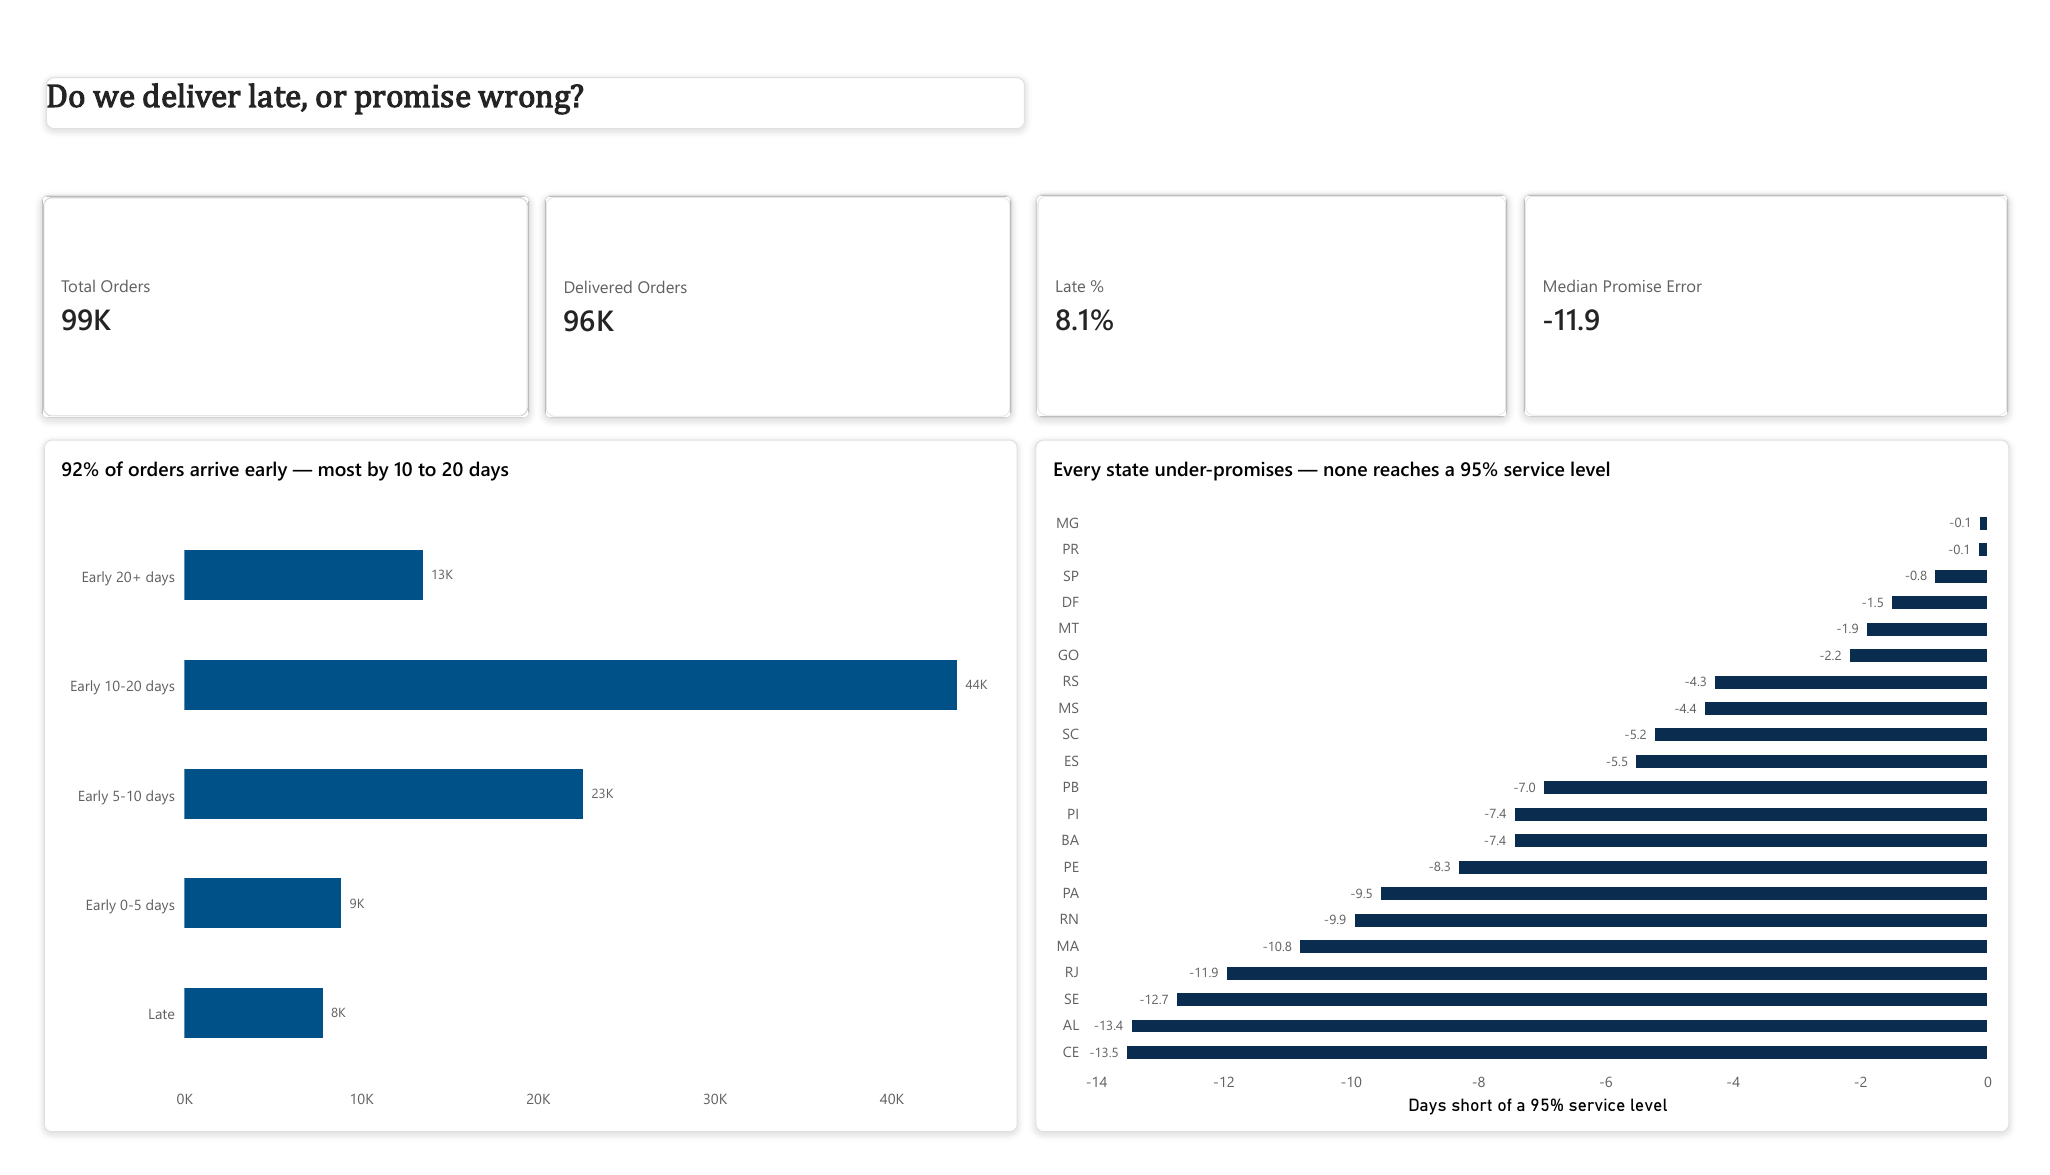

This screenshot's page, from the dashboard's own definition file:
{"tool":"powerbi","page":{"name":"The promise","canvas":[1920,1080],"ordinal":0},"visuals":[{"type":"cardVisual","fields":{"Data":["order_model.Total Orders"]},"box":[15,162.5,470,215],"z":0},{"type":"cardVisual","fields":{"Data":["order_model.Delivered Orders"]},"box":[497.5,162.5,450,215],"z":1000},{"type":"cardVisual","fields":{"Data":["order_model.Late %"]},"box":[970,162.2,454.4,215.6],"z":2000},{"type":"cardVisual","fields":{"Data":["order_model.Median Promise Error"]},"box":[1437.8,162.2,467.5,215],"z":3000},{"type":"barChart","title":"92% of orders arrive early — most by 10 to 20 days","fields":{"Category":["order_model.Promise Band"],"Y":["order_model.Delivered Orders"]},"box":[17.5,397.5,935,665],"z":4000},{"type":"barChart","title":"Every state under-promises — none reaches a 95% service level","fields":{"Category":["order_model.customer_state"],"Y":["order_model.Promise Gap"]},"box":[969.5,397.5,935,665],"z":5000},{"type":"textbox","box":[20,50,940,50],"z":6000}]}

Visuals, with their boxes in screenshot pixels (x1, y1, x2, y2), scaled from the page's 1920x1080 canvas onto the 2050x1175 screenshot:
cardVisual - order_model.Total Orders: [16, 177, 518, 411]
cardVisual - order_model.Delivered Orders: [531, 177, 1012, 411]
cardVisual - order_model.Late %: [1036, 176, 1521, 411]
cardVisual - order_model.Median Promise Error: [1535, 176, 2034, 410]
"92% of orders arrive early — most by 10 to 20 days" barChart: [19, 432, 1017, 1156]
"Every state under-promises — none reaches a 95% service level" barChart: [1035, 432, 2033, 1156]
textbox: [21, 54, 1025, 109]
